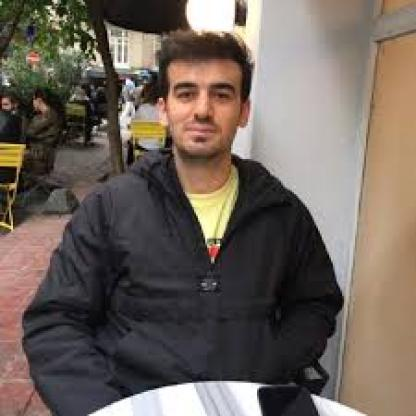person: (154, 29, 262, 164)
